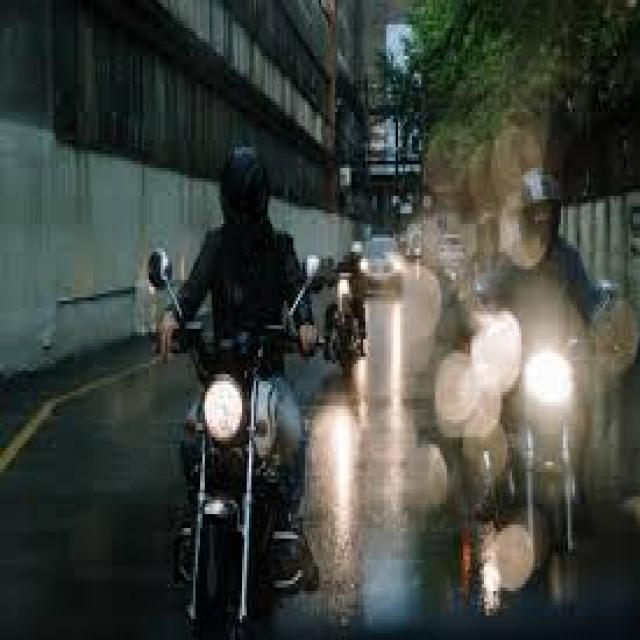Bike: (142, 258, 326, 639), (443, 292, 634, 594), (314, 250, 369, 380)
